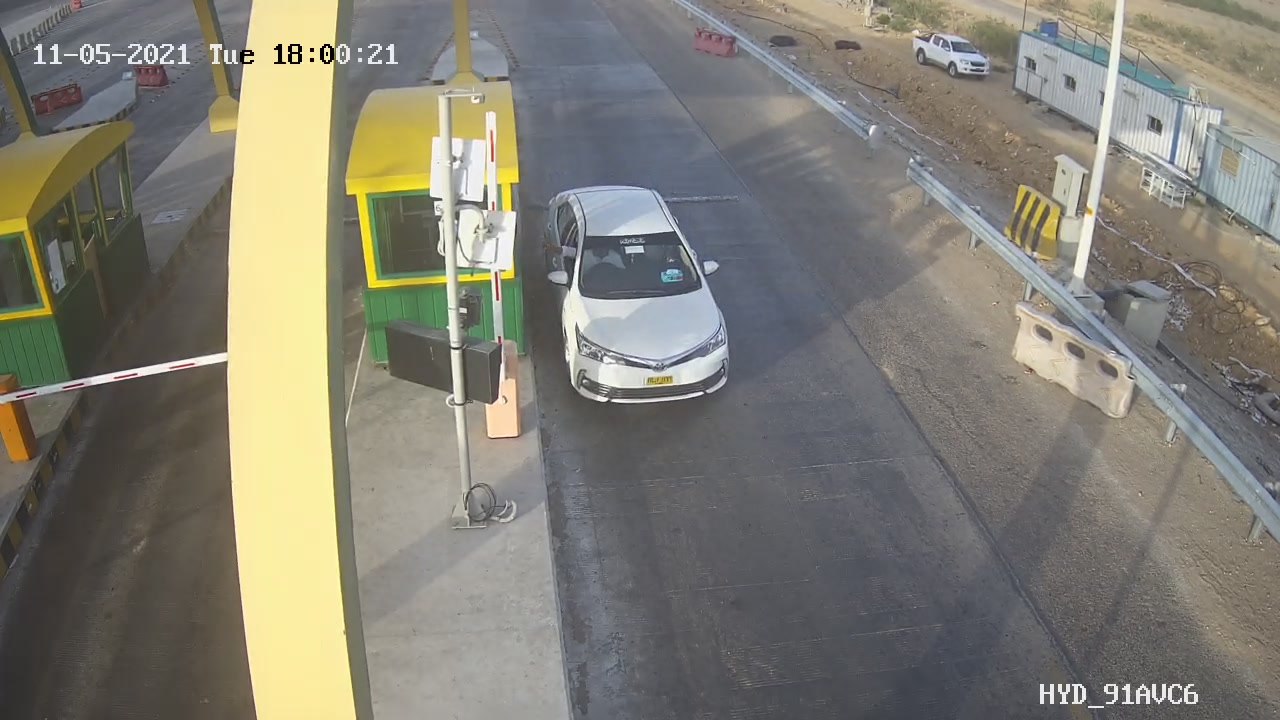F1: (535, 176, 762, 412)
